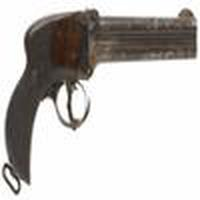gun: (4, 12, 198, 187)
